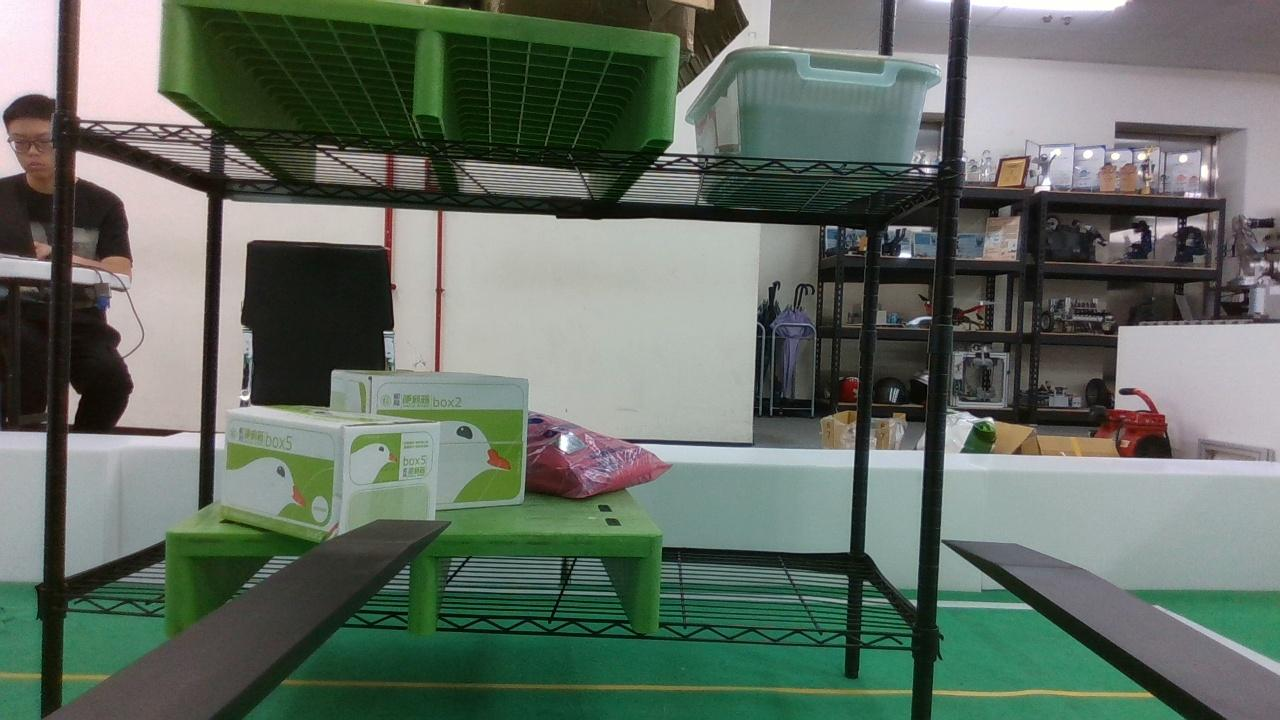Pallet: (157, 0, 690, 147), (161, 525, 670, 637)
